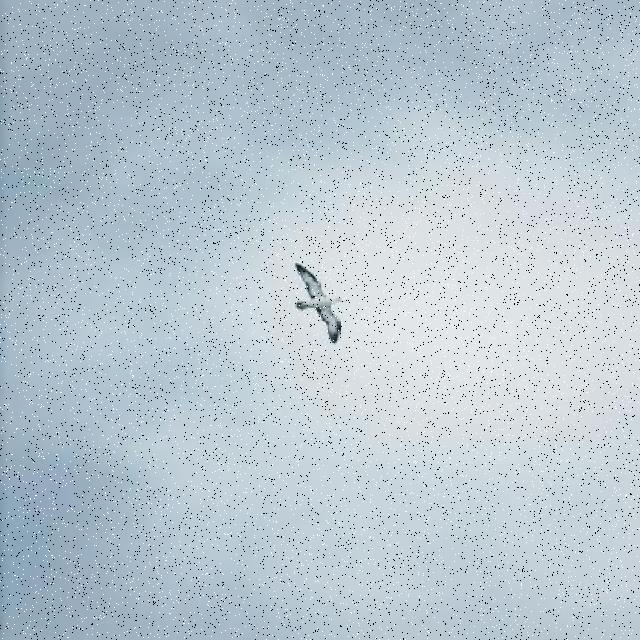bird: (292, 263, 348, 345)
